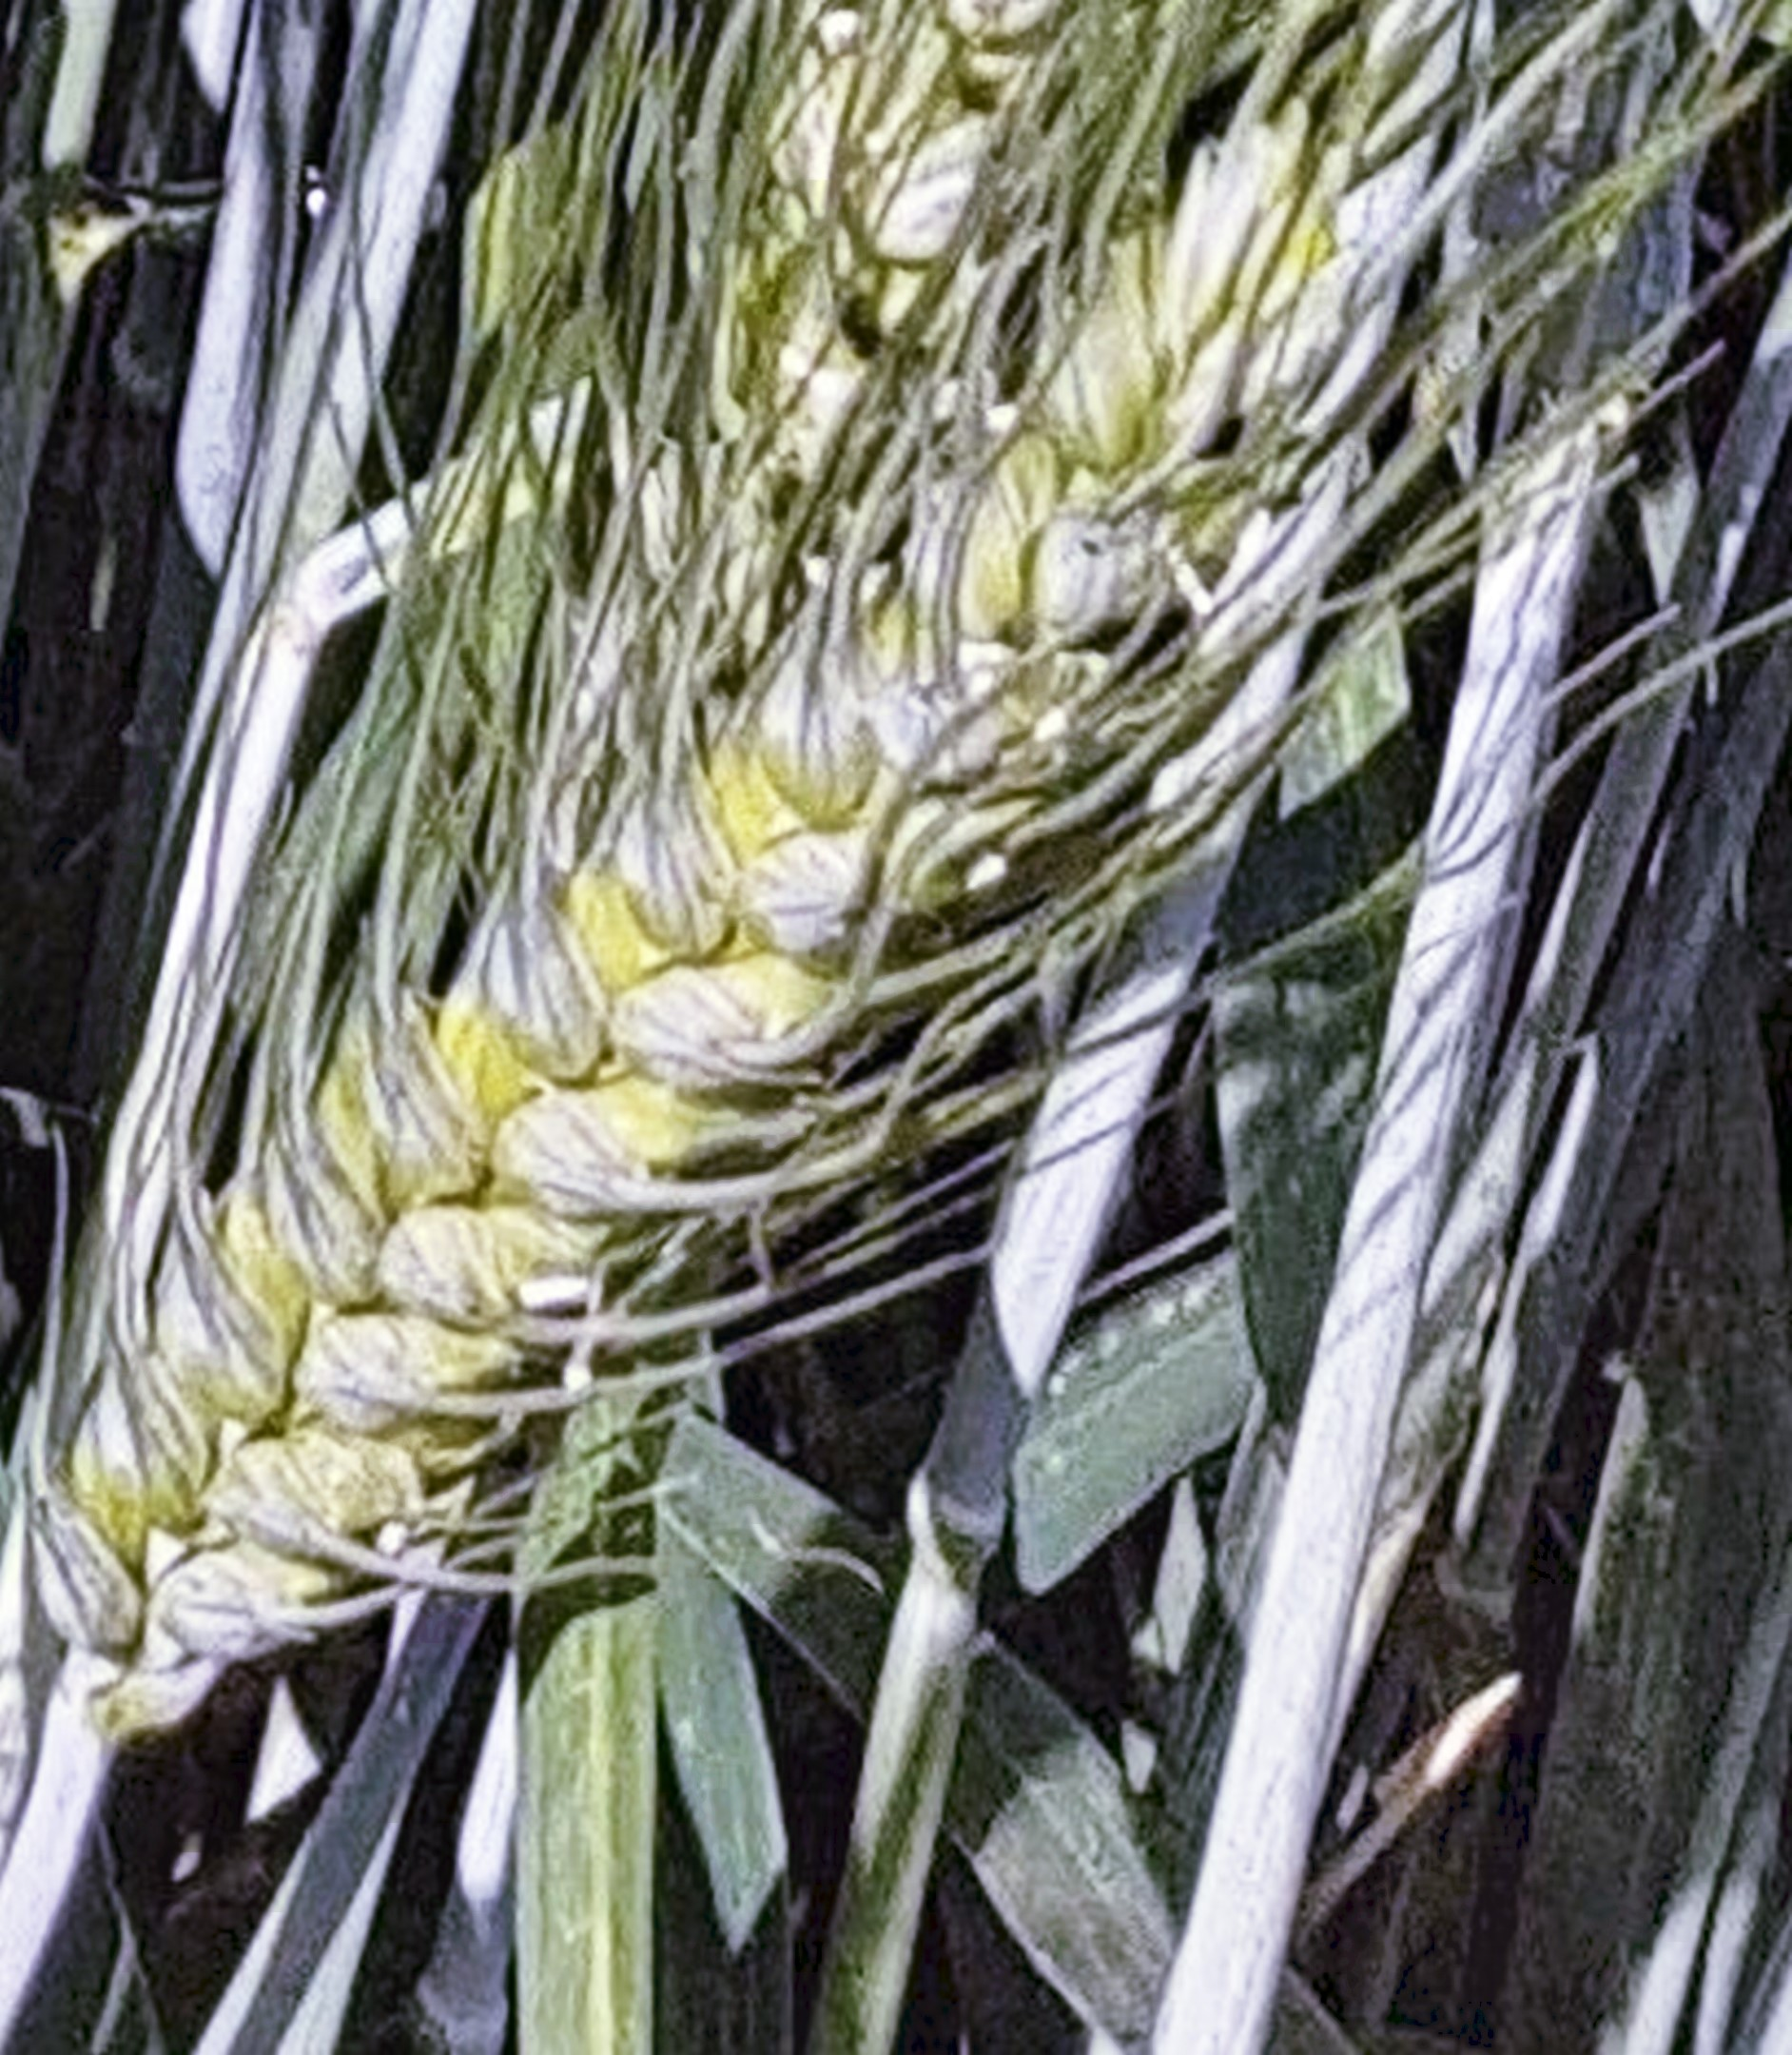Healthy Wheat: (68, 182, 1399, 1679)
